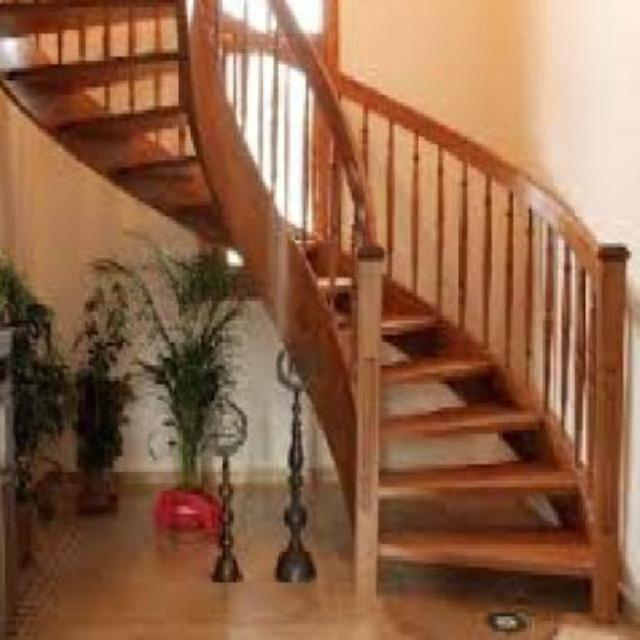stair: (250, 21, 632, 634)
